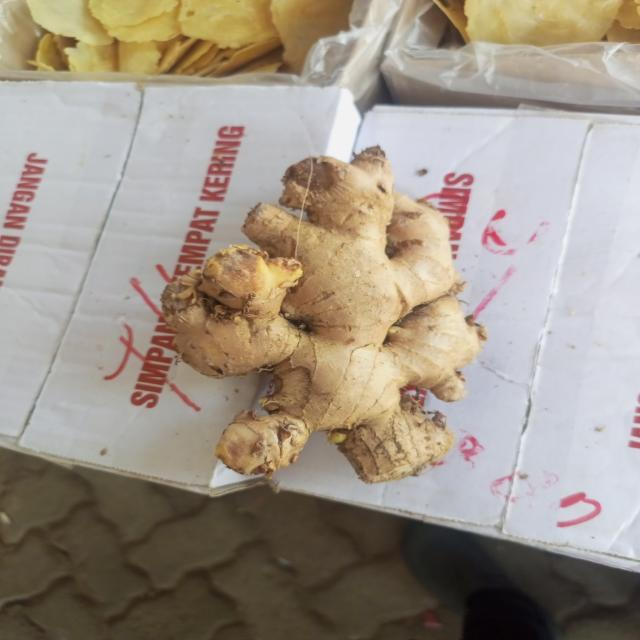ginger: (172, 155, 485, 474)
